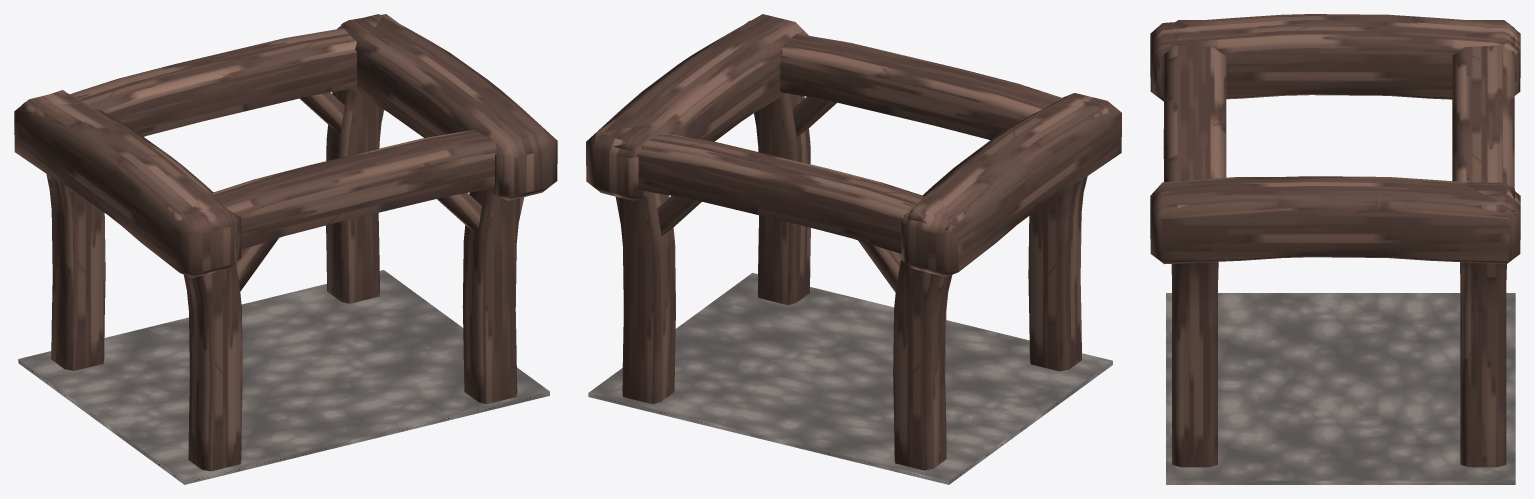
Rendered from SM_mine_module_02.glb.
3 views of the same model, side by side, from view 1: azimuth 30°, elevation 25°; view 2: azimuth 150°, elevation 25°; view 3: azimuth 270°, elevation 25° (orthographic). The views are drawn at different scales.
Parts seen in each view (by area): view 1: SM_mine_module_02; view 2: SM_mine_module_02; view 3: SM_mine_module_02.
Boxes of the visible parts, x1,y1,x2,y2 form: SM_mine_module_02: (14, 14, 557, 484); SM_mine_module_02: (586, 14, 1121, 484); SM_mine_module_02: (1150, 14, 1520, 484).
Bounding box in the file's own units: 7.48 × 5.21 × 6.01.
Materials: 2 (2 with a texture image).
